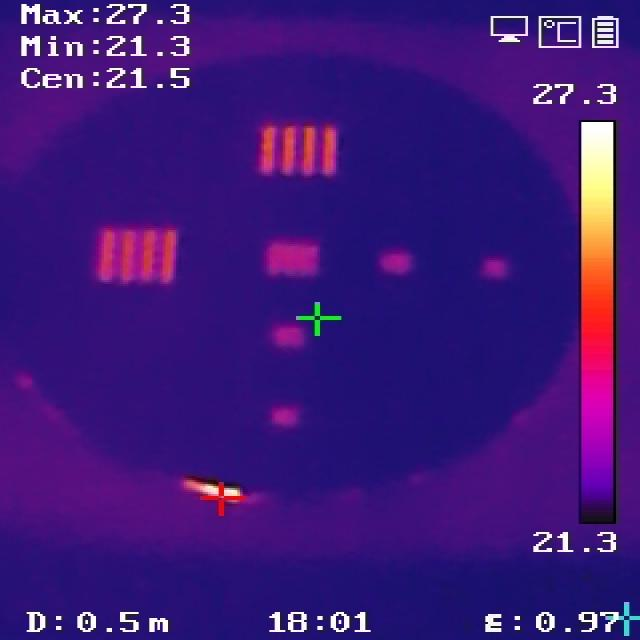Distinguishable 4-bar target: (260, 121, 340, 179)
Indistinguishable 4-bar target: (270, 237, 322, 275)
threshold 4-bar target: (99, 223, 176, 279)
